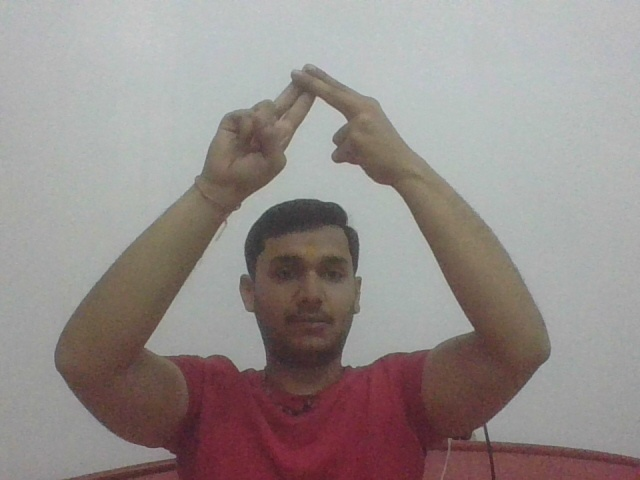F: (206, 61, 413, 188)
